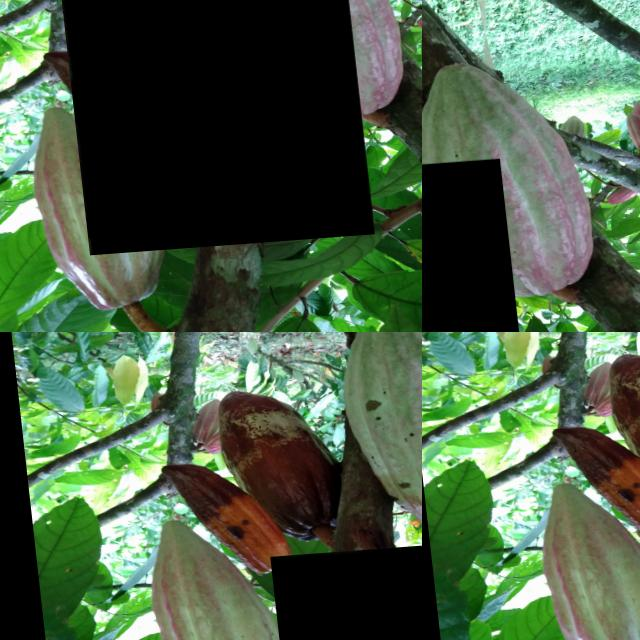Fitoftora: (50, 0, 363, 257), (546, 423, 640, 550), (614, 351, 640, 515)
Monilia: (422, 165, 519, 332), (262, 543, 422, 640)
Sana: (521, 475, 640, 640)
